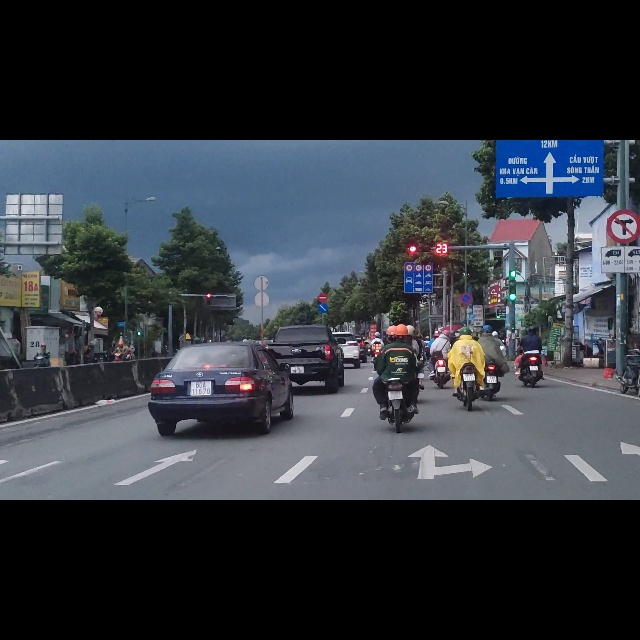bien_cam: (607, 123, 640, 184), (404, 234, 433, 271), (460, 271, 472, 292), (318, 291, 328, 308), (318, 273, 328, 288), (406, 220, 413, 233), (415, 220, 422, 233), (425, 221, 432, 233)
